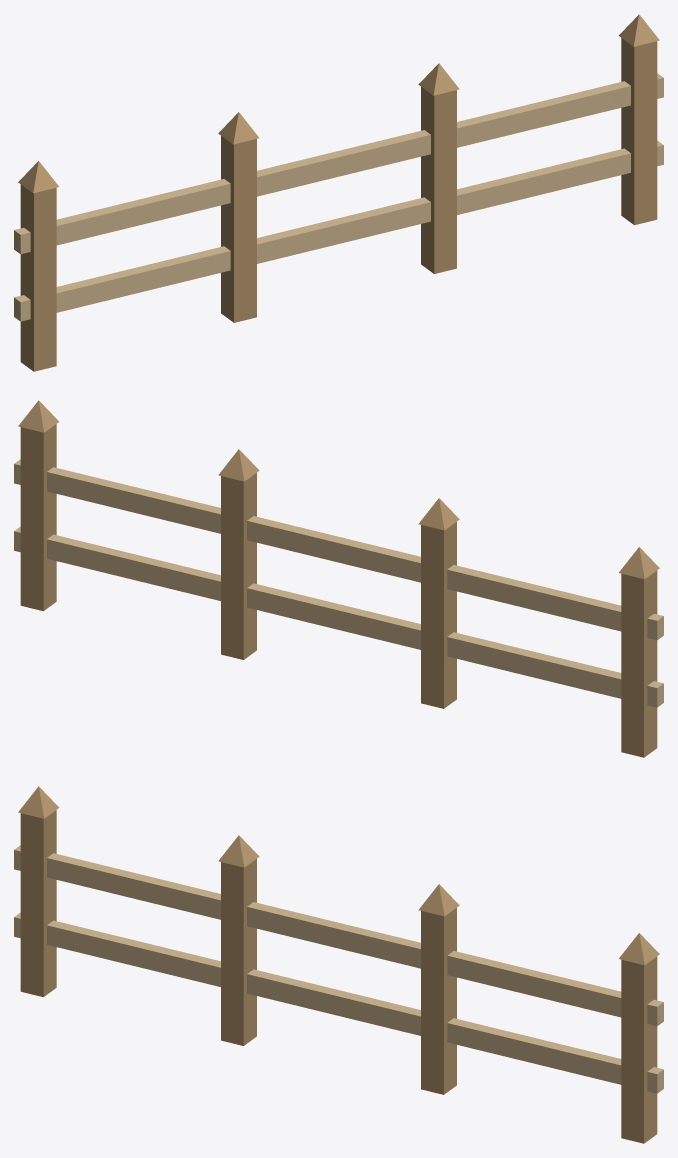
Rendered from Fence.glb.
The picture shows the model from 3 angles, top to bottom: view 1: azimuth 30°, elevation 25°; view 2: azimuth 150°, elevation 25°; view 3: azimuth 330°, elevation 25°; orthographic projection.
Parts seen in each view (by area): view 1: Fence_Rail.001, Fence_Rail, Fence_Post.003, Fence_Post, Fence_Post.001, Fence_Post.002, Fence_Cap.003, Fence_Cap.002, Fence_Cap.001, Fence_Cap; view 2: Fence_Rail.001, Fence_Rail, Fence_Post.003, Fence_Post, Fence_Post.001, Fence_Post.002, Fence_Cap.003, Fence_Cap.002, Fence_Cap.001, Fence_Cap; view 3: Fence_Rail.001, Fence_Rail, Fence_Post, Fence_Post.003, Fence_Post.002, Fence_Post.001, Fence_Cap, Fence_Cap.001, Fence_Cap.002, Fence_Cap.003.
Part boxes in pixels (bbox=[...]): Fence_Rail.001: bbox=[14, 73, 663, 254]; Fence_Rail: bbox=[14, 140, 663, 321]; Fence_Post.003: bbox=[621, 38, 657, 225]; Fence_Post: bbox=[20, 184, 56, 371]; Fence_Post.001: bbox=[221, 136, 256, 322]; Fence_Post.002: bbox=[421, 87, 456, 273]; Fence_Cap.003: bbox=[618, 14, 659, 46]; Fence_Cap.002: bbox=[418, 63, 459, 95]; Fence_Cap.001: bbox=[218, 112, 259, 144]; Fence_Cap: bbox=[18, 161, 58, 193]; Fence_Rail.001: bbox=[14, 459, 663, 640]; Fence_Rail: bbox=[14, 526, 663, 707]; Fence_Post.003: bbox=[20, 424, 56, 611]; Fence_Post: bbox=[621, 570, 657, 757]; Fence_Post.001: bbox=[421, 522, 456, 708]; Fence_Post.002: bbox=[221, 473, 256, 659]; Fence_Cap.003: bbox=[18, 400, 59, 432]; Fence_Cap.002: bbox=[218, 449, 259, 481]; Fence_Cap.001: bbox=[418, 498, 459, 530]; Fence_Cap: bbox=[619, 547, 659, 579]; Fence_Rail.001: bbox=[14, 845, 663, 1026]; Fence_Rail: bbox=[14, 912, 663, 1093]; Fence_Post: bbox=[20, 810, 56, 997]; Fence_Post.003: bbox=[621, 956, 657, 1143]; Fence_Post.002: bbox=[421, 908, 456, 1094]; Fence_Post.001: bbox=[221, 859, 256, 1045]; Fence_Cap: bbox=[18, 786, 59, 818]; Fence_Cap.001: bbox=[218, 835, 259, 867]; Fence_Cap.002: bbox=[418, 884, 459, 916]; Fence_Cap.003: bbox=[619, 933, 659, 965].
Bounding box in the file's own units: 4.5 × 1.36 × 0.1838.
